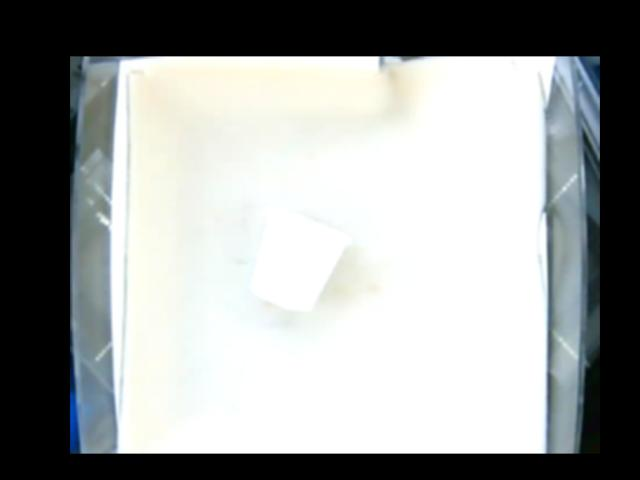Cup: (249, 207, 349, 311)
